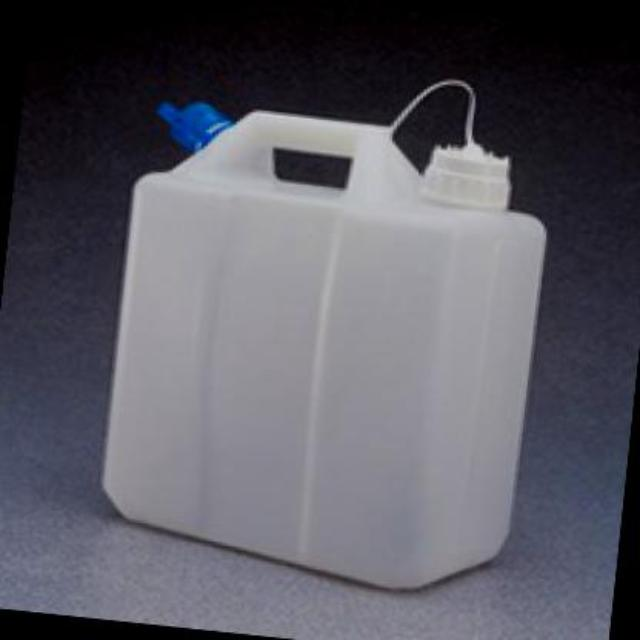chemical_plastic_gallon: (76, 62, 578, 602)
